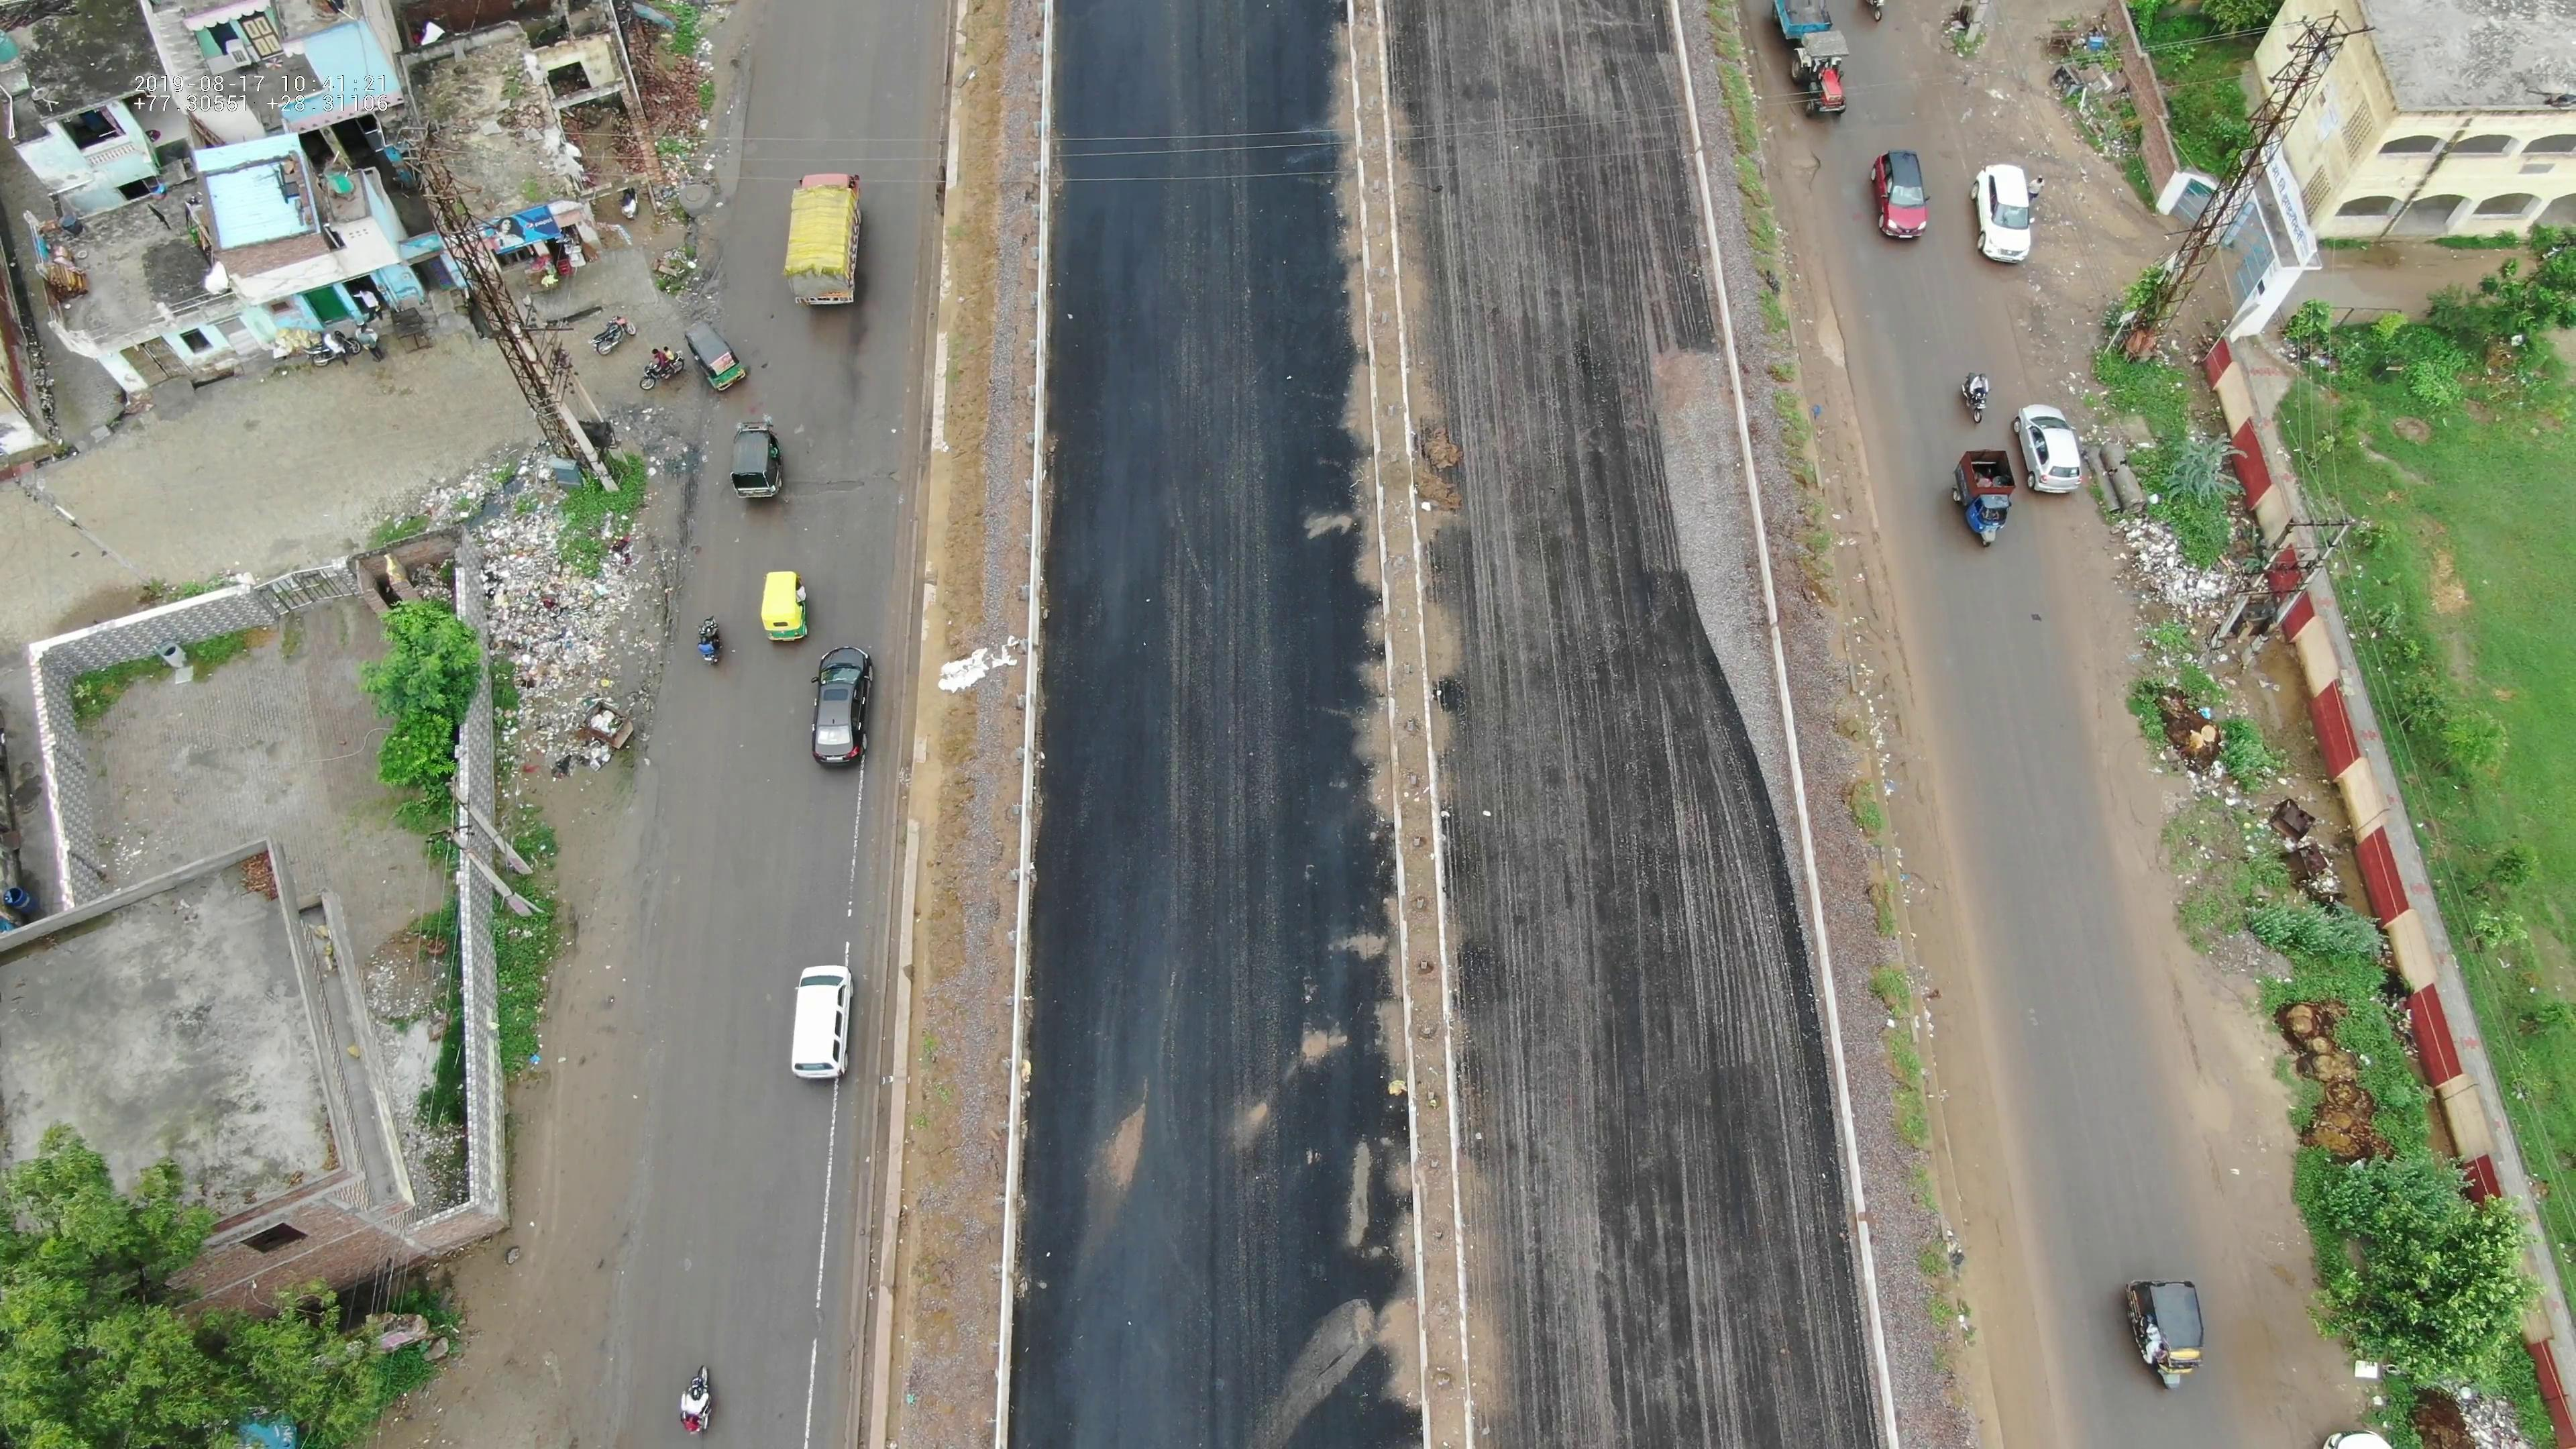Muddy_road: (1879, 796, 2033, 1111), (1934, 1088, 2065, 1433)
